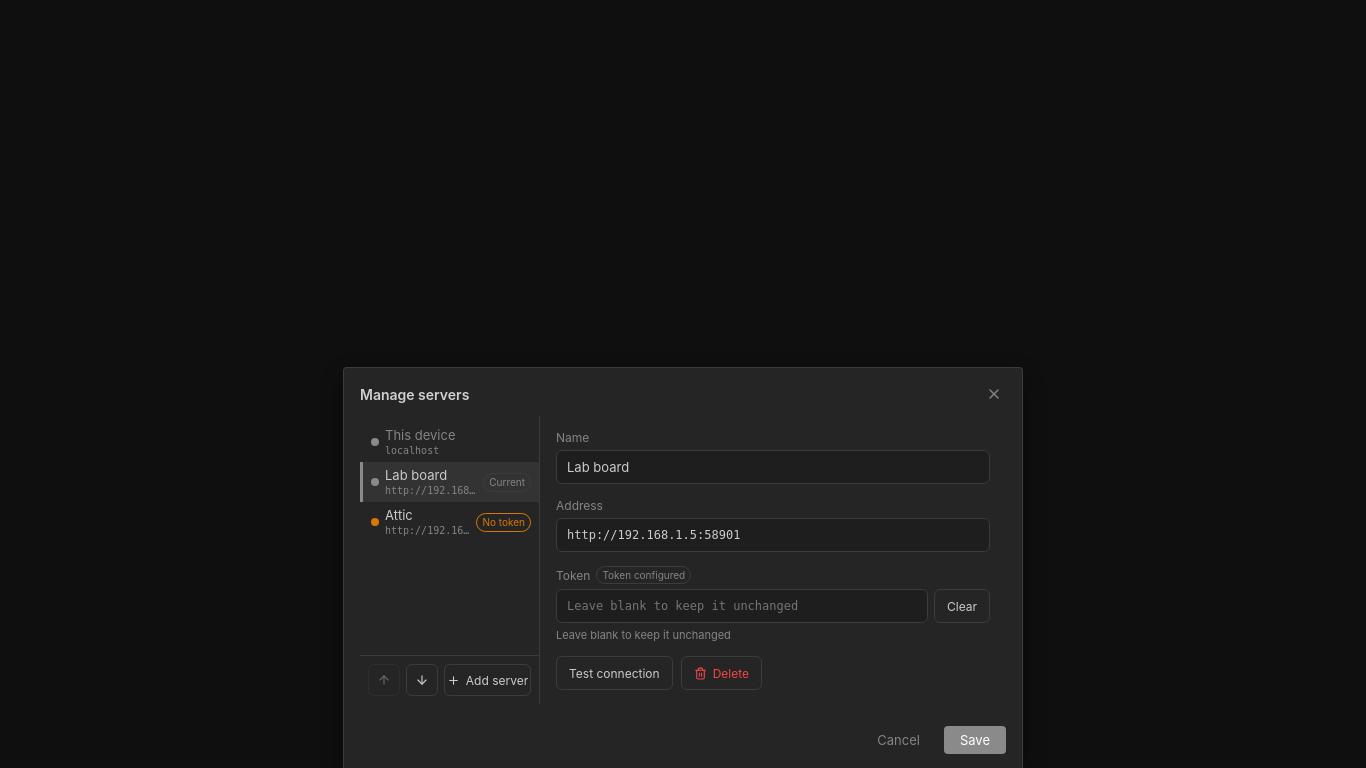
ServerManagerDialog › treats an absent version as "cannot say", not as incompatible
The width and height of the screenshot is (1366, 768).
Click the button with class "srv-mgr-btn--test". click: (614, 673)
box: [556,656,673,690]
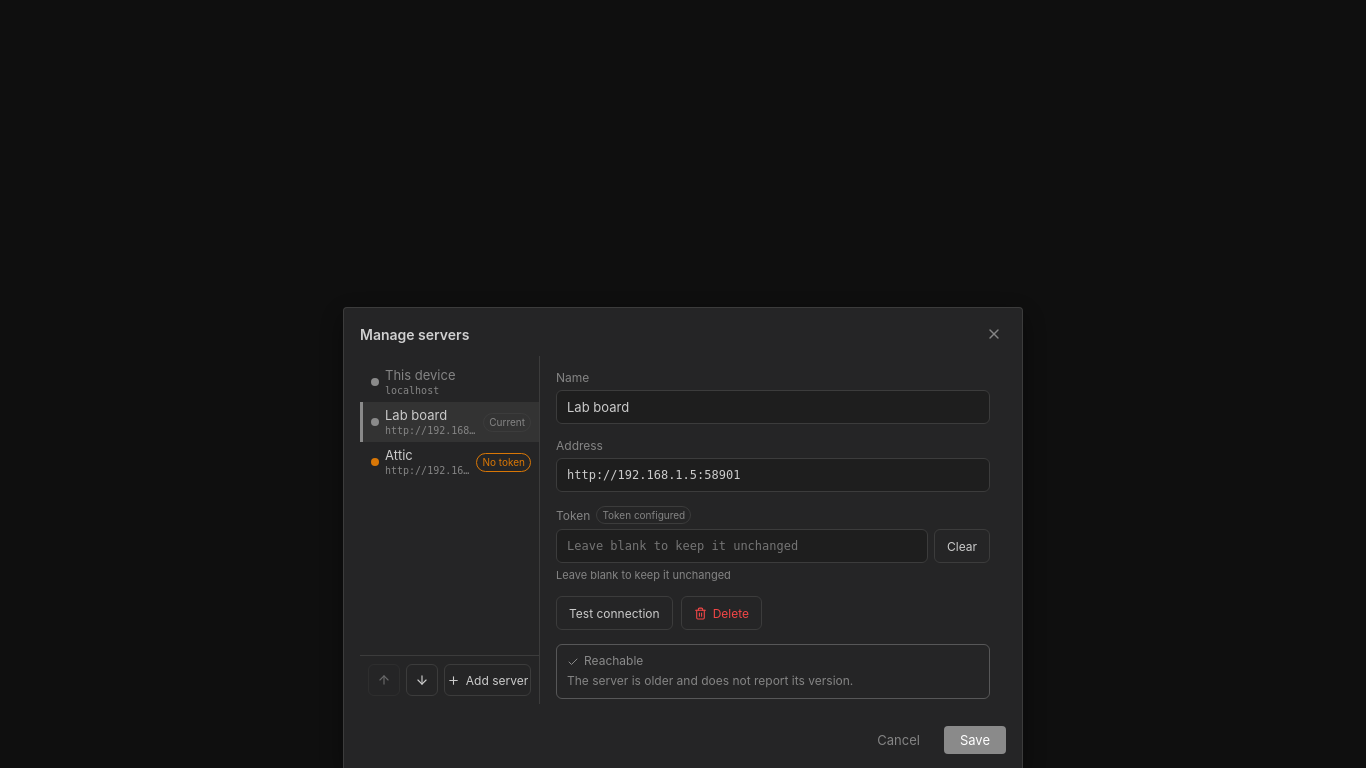
Result: the element with class "srv-mgr-result" shows "Reachable" at [584,653,643,668]
Result: the element with class "srv-mgr-result" shows "older" at [567,673,853,688]
